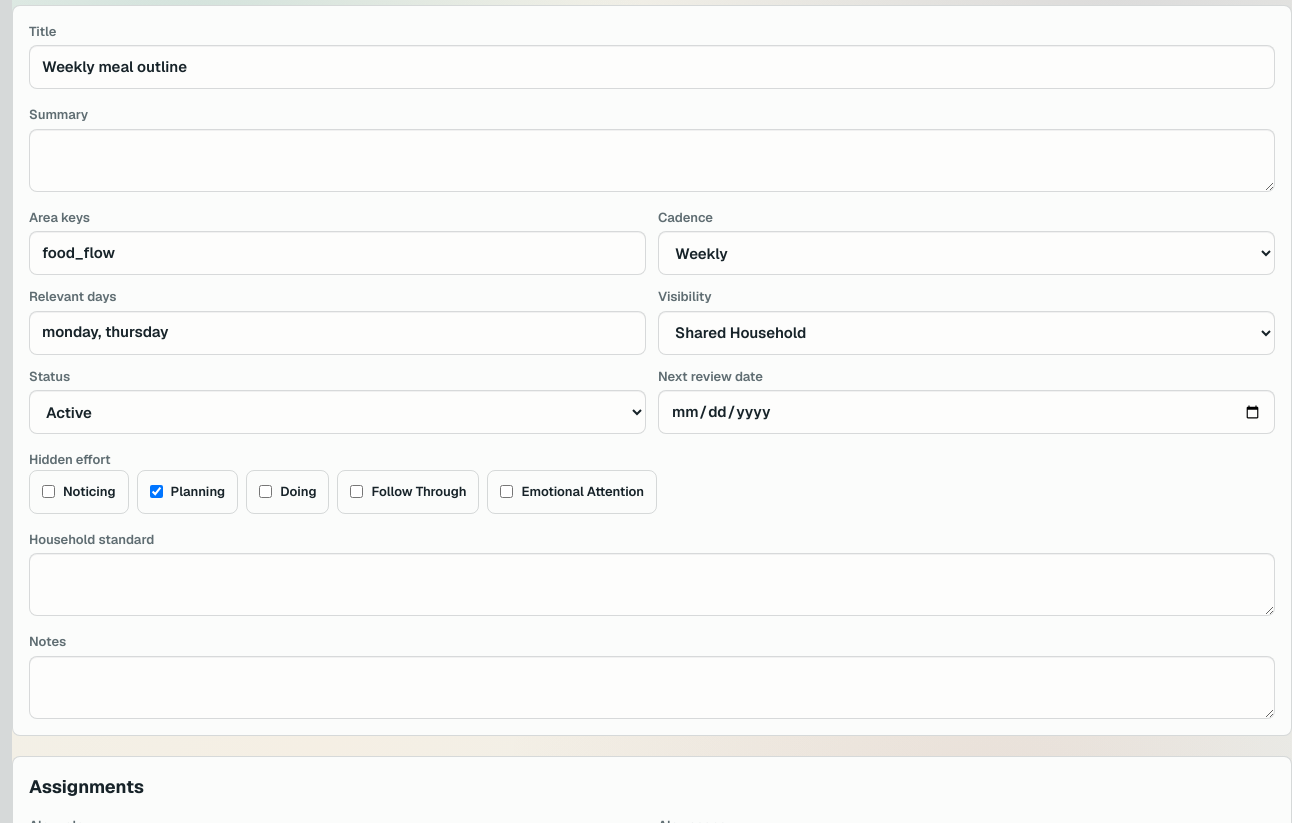
Test: ResponsibilityEditor › saves existing edit fields without visibility and uses the dedicated visibility path
Replace the text in the field labelled "Relevant days" with "monday, friday": x=338, y=332 [29,310,646,354]
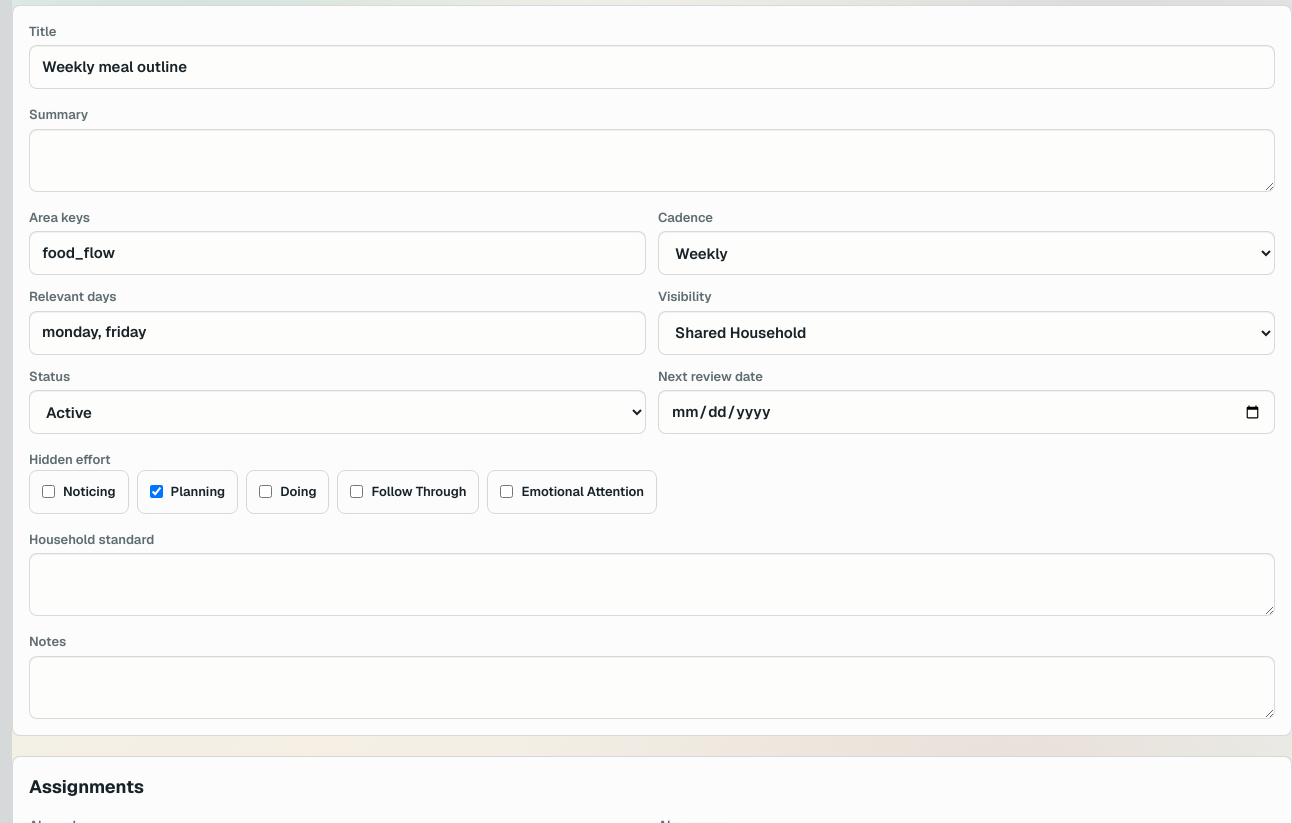
Select "Partner Visible" in the dropdown labelled "Visibility": x=966, y=332 [658,310,1275,354]
(page scrolled)
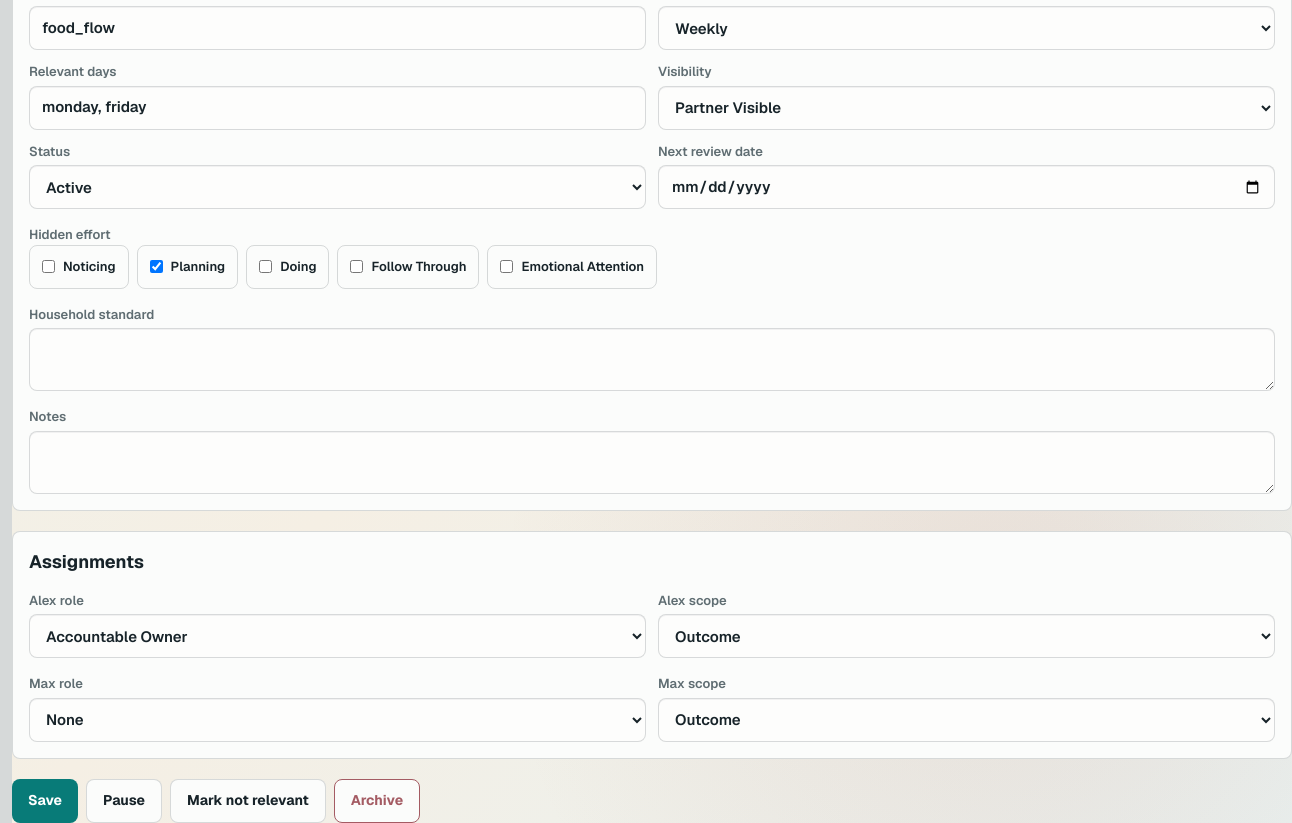
Click the button "Save": x=45, y=800 [12,778,78,822]
(page scrolled)
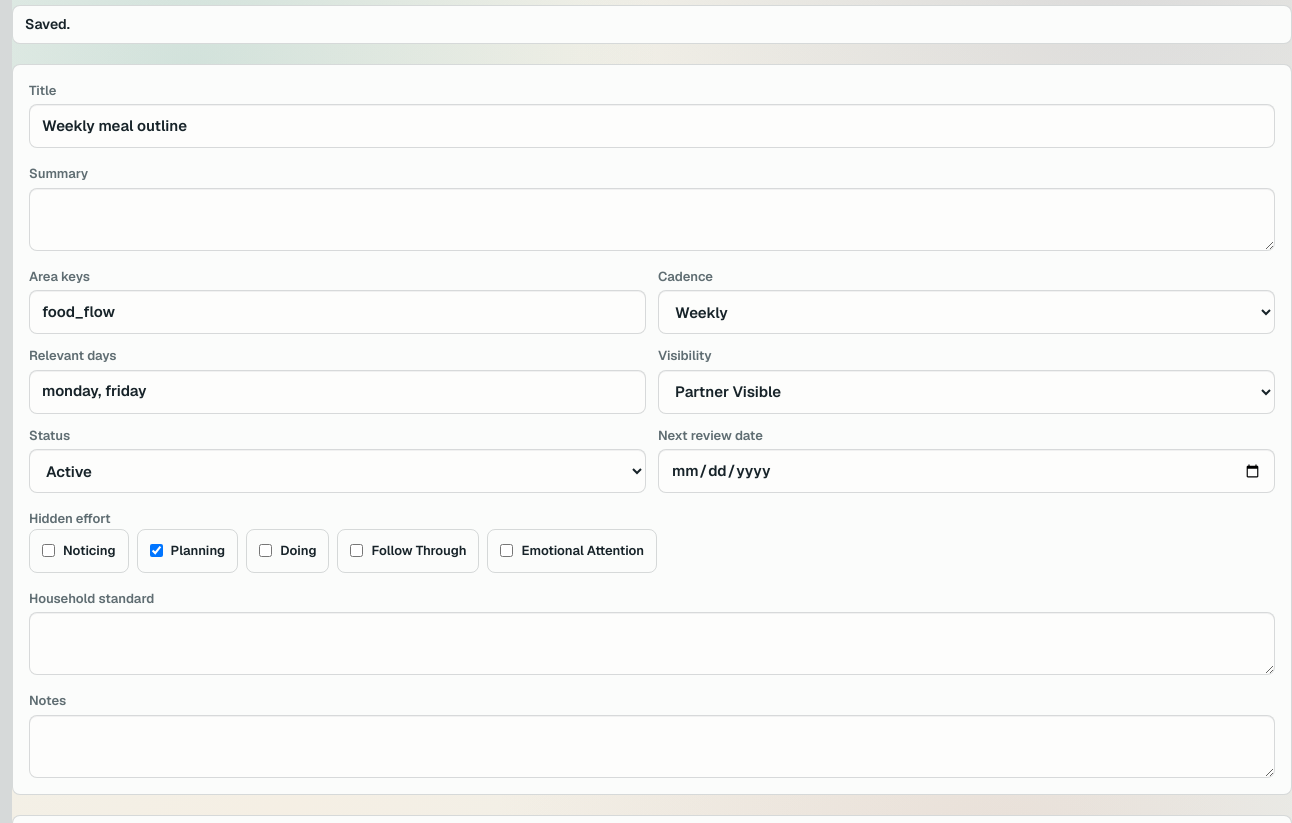
Now the message reads "Saved.", box [25,14,70,32]
